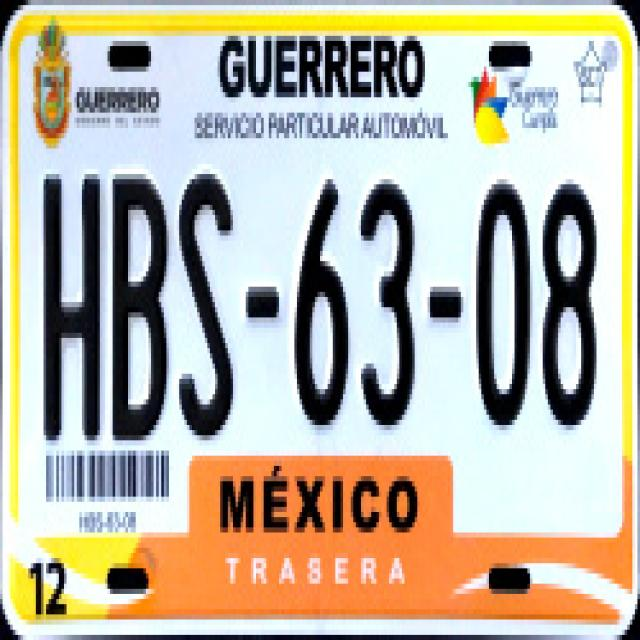placa: (20, 148, 624, 453)
